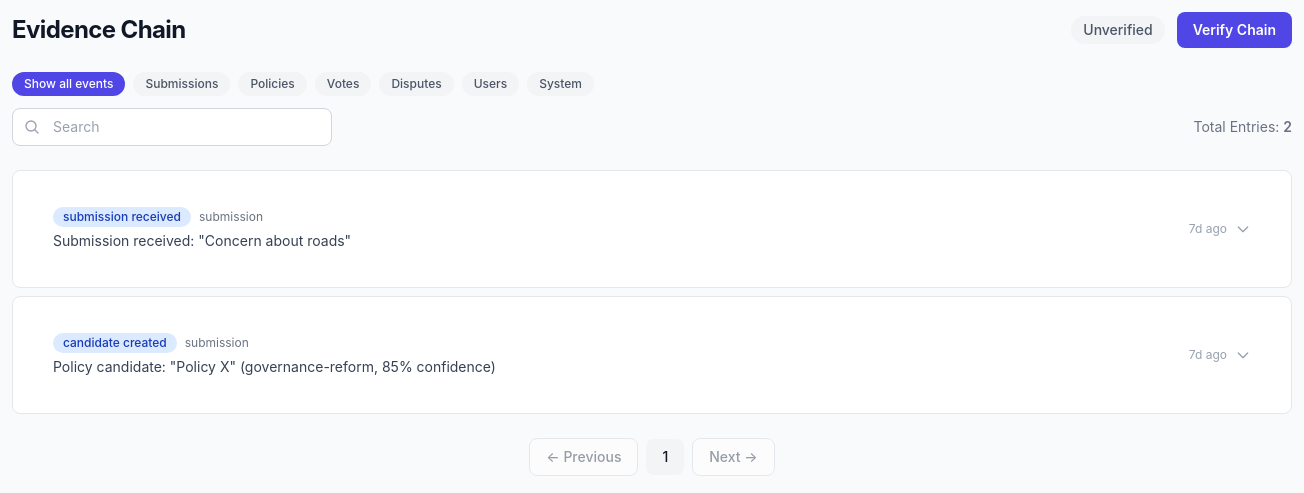
EvidencePage › filters entries by search term on entity_id
Check: the text "Submission received: \"Concern about roads\"" is shown, box [53,232,351,249]
Type "entity-bbb" into the field labelled "Search" at (172, 127), box [12,108,332,146]
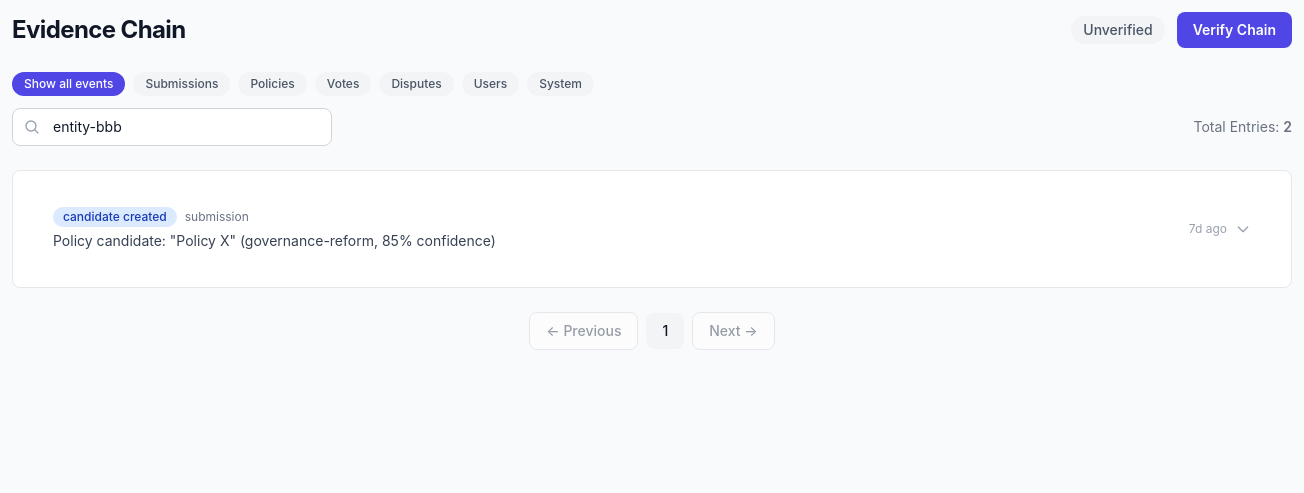
Check: the text "Policy X" is shown, box [53,232,496,249]
Check: the button "Concern about roads" is gone
